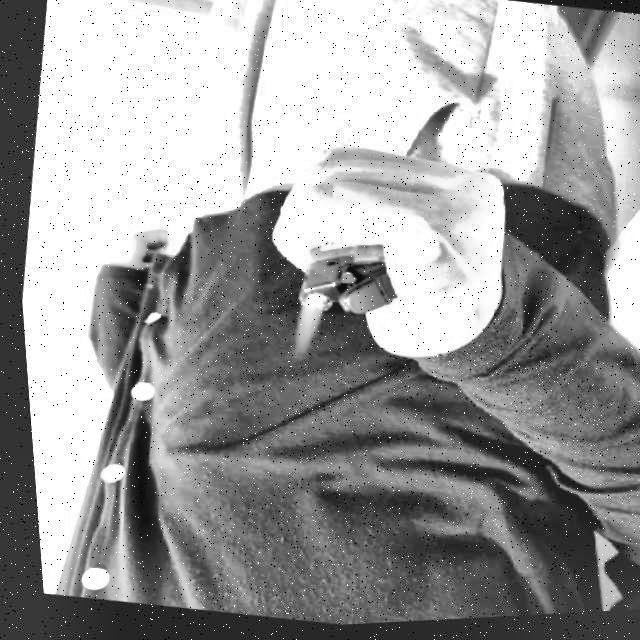Fire: (286, 299, 324, 364)
